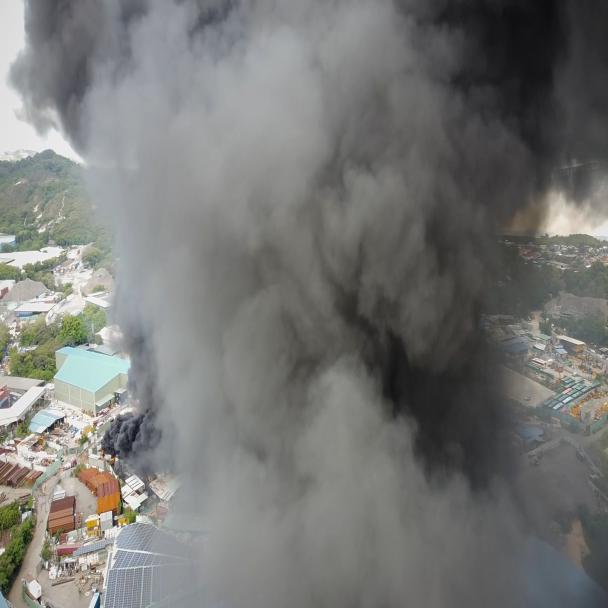smoke: (1, 0, 608, 608)
